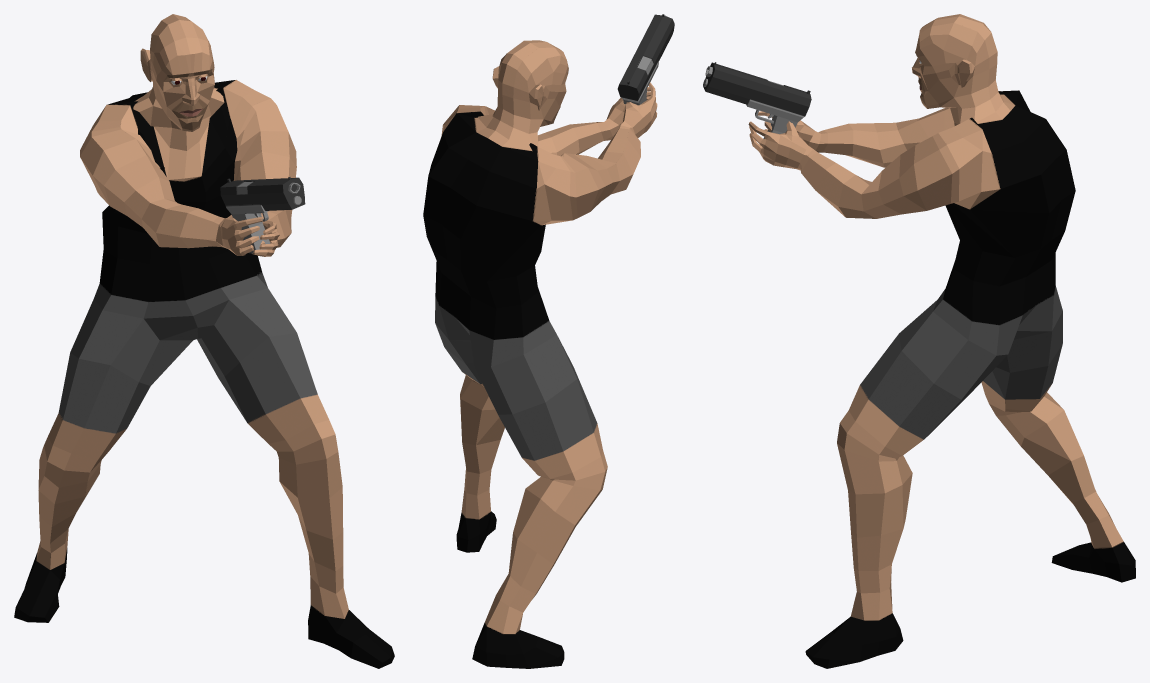
File: PlayerShoot(11).obj
3 views of the same model, side by side, from view 1: azimuth 30°, elevation 25°; view 2: azimuth 150°, elevation 25°; view 3: azimuth 270°, elevation 25° (orthographic). The views are drawn at different scales.
Visible parts, largest first — view 1: Plane002, Box003; view 2: Plane002, Box003; view 3: Plane002, Box003.
Part boxes in pixels (x1,y1,x2,y2): Plane002: (14, 14, 394, 668); Box003: (220, 177, 305, 253); Plane002: (423, 40, 657, 668); Box003: (617, 14, 674, 105); Plane002: (748, 14, 1135, 668); Box003: (703, 62, 811, 138).
Size of the model in its own units: 716 by 1675 by 1122.
